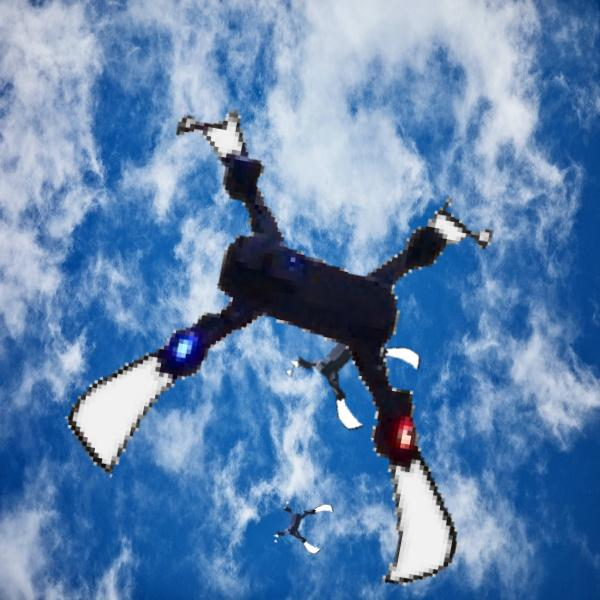drone: (72, 120, 527, 575), (294, 308, 412, 426), (274, 496, 334, 556)
